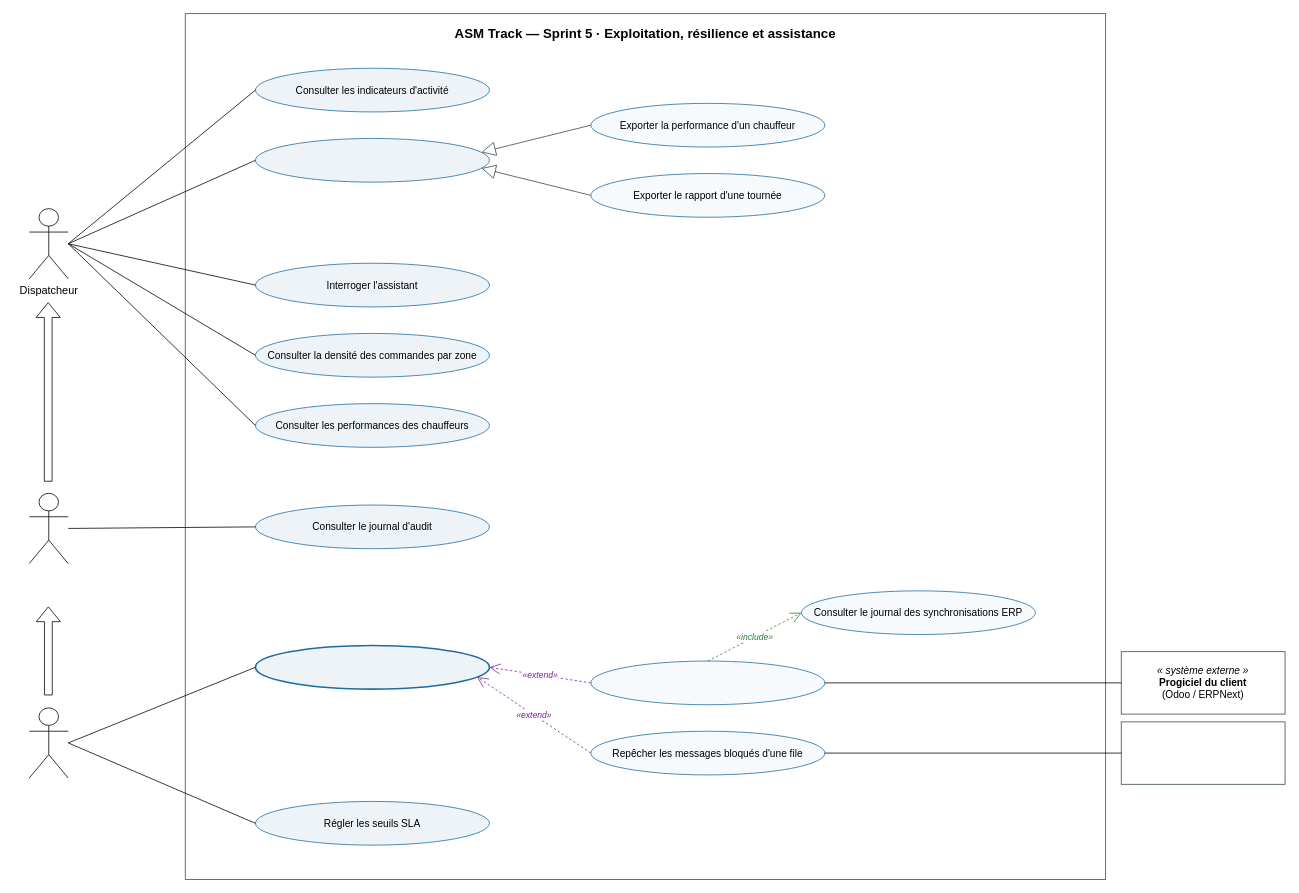
Image size: 1299x893. Some labels were removed from this diagram. The box of each missing label's shape, as (x1, y1, x2, y2) in pixels:
Administrateur: (28, 707, 68, 778)
Consulter la console Santé Système: (254, 644, 490, 690)
Exporter un rapport en PDF: (255, 138, 489, 182)
Relancer une commande non synchronisée: (590, 660, 825, 705)
Responsable (supervision): (28, 493, 68, 564)
« système externe » RabbitMQ (courtier de messages): (1120, 721, 1285, 784)
